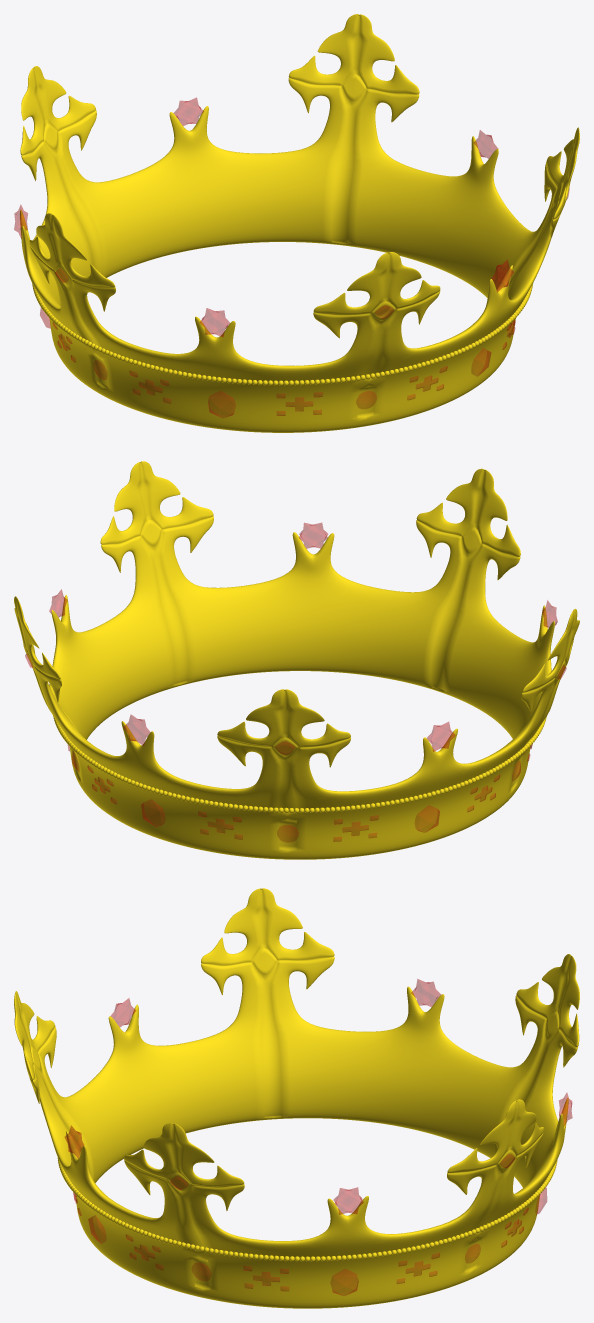
The model's file is crown.glb.
3 renders of one model, top to bottom at view 1: azimuth 30°, elevation 25°; view 2: azimuth 150°, elevation 25°; view 3: azimuth 270°, elevation 25°, orthographic.
Visible parts, largest first — view 1: Object003_Gold_0, Hedra002__0, Hedra009__0, Hedra007__0; view 2: Object003_Gold_0, Hedra010__0, Hedra008__0; view 3: Object003_Gold_0, Hedra006__0, Hedra004__0.
Boxes of the visible parts, x1,y1,x2,y2 form: Object003_Gold_0: (20, 14, 579, 432); Hedra002__0: (208, 391, 235, 417); Hedra009__0: (200, 308, 229, 336); Hedra007__0: (174, 97, 203, 125); Object003_Gold_0: (14, 461, 579, 859); Hedra010__0: (299, 523, 327, 548); Hedra008__0: (427, 722, 455, 751); Object003_Gold_0: (14, 888, 579, 1308); Hedra006__0: (334, 1187, 363, 1214); Hedra004__0: (330, 1269, 358, 1295).
Bounding box in the file's own units: 0.1386 × 0.0543 × 0.1383.
